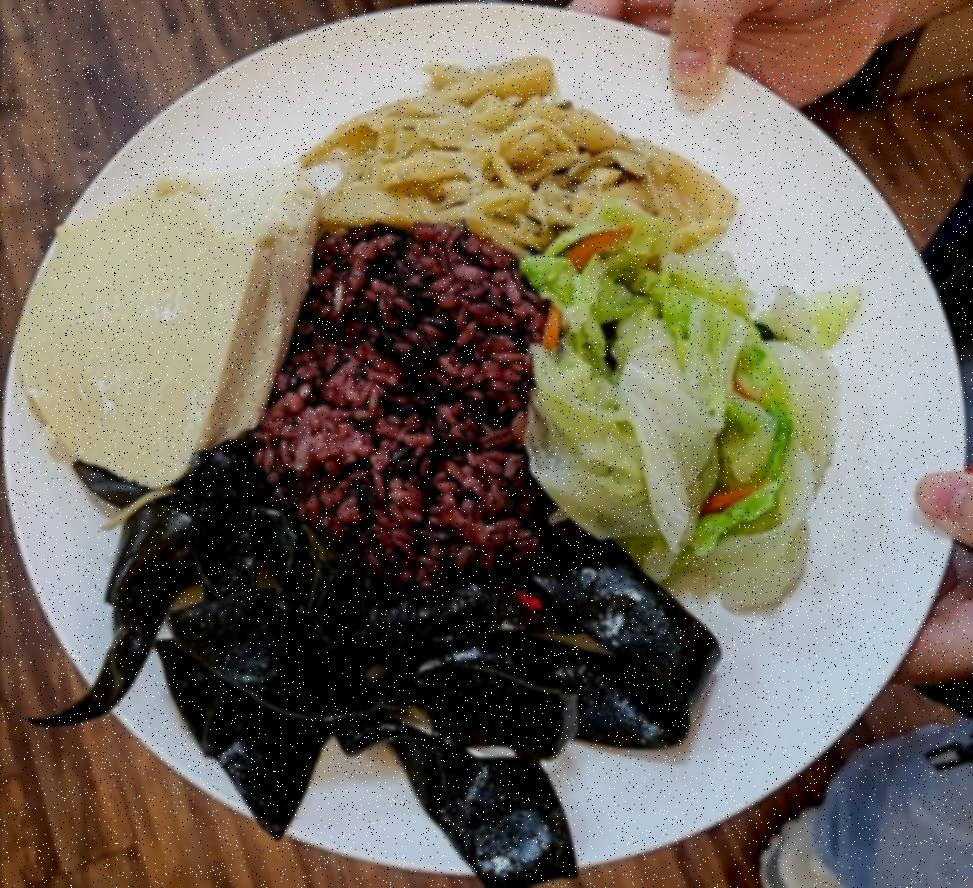plate: (2, 18, 973, 888)
purple rice: (262, 228, 548, 584)
side dish: (61, 448, 718, 882), (526, 214, 850, 604), (14, 170, 321, 473), (299, 62, 734, 248)
